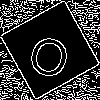O: (25, 25, 76, 81)
